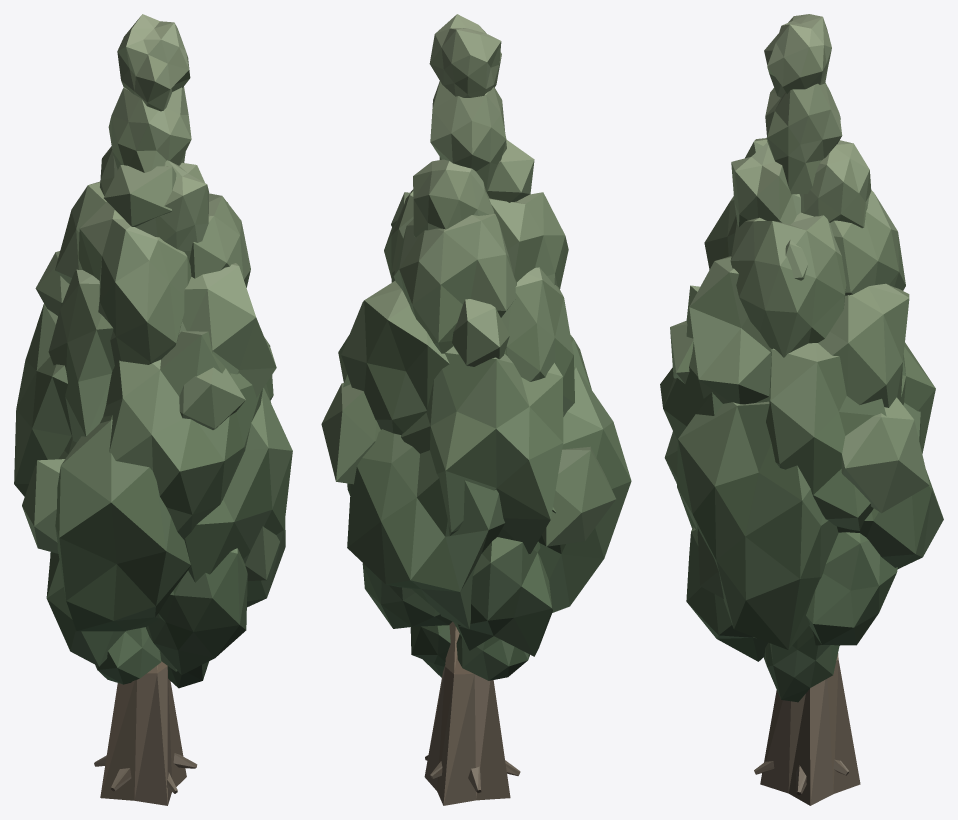
Rendered from broadleaf-column-flame.glb.
3 renders of one model, left to right at view 1: azimuth 30°, elevation 25°; view 2: azimuth 150°, elevation 25°; view 3: azimuth 270°, elevation 25°, orthographic.
Visible parts, largest first — view 1: canopy, trunk; view 2: canopy, trunk; view 3: canopy, trunk.
Boxes of the visible parts, bbox=[...] form: canopy: bbox=[14, 14, 292, 688]; trunk: bbox=[94, 661, 197, 805]; canopy: bbox=[321, 14, 631, 680]; trunk: bbox=[424, 621, 520, 805]; canopy: bbox=[660, 14, 943, 702]; trunk: bbox=[754, 653, 860, 805].
Size of the model in its own units: 3.04 by 8.63 by 2.88.
